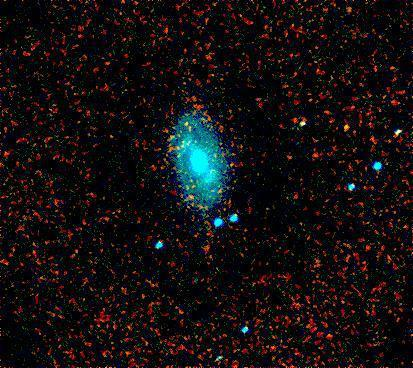star: (332, 116, 362, 146)
